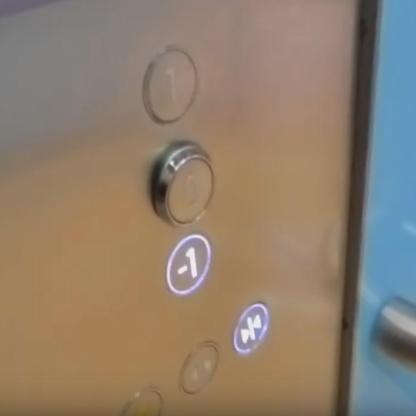-1: (164, 233, 212, 296)
0: (151, 140, 218, 228)
1: (141, 44, 198, 127)
close: (231, 300, 270, 355)
open: (178, 339, 221, 397)
